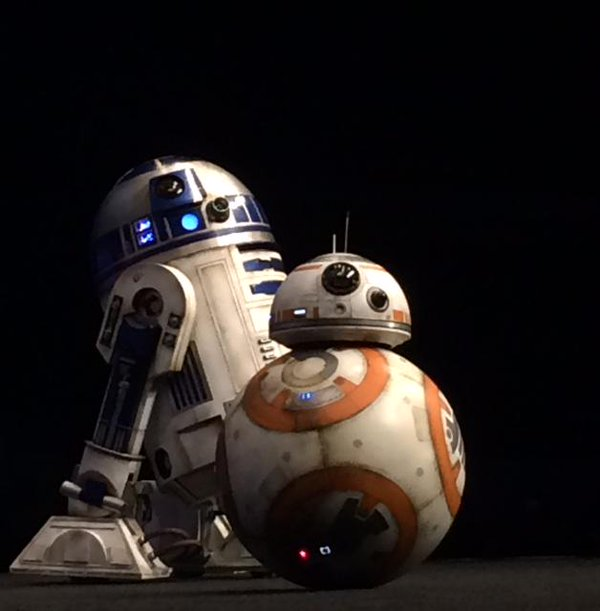r2-d2: (9, 158, 292, 581)
